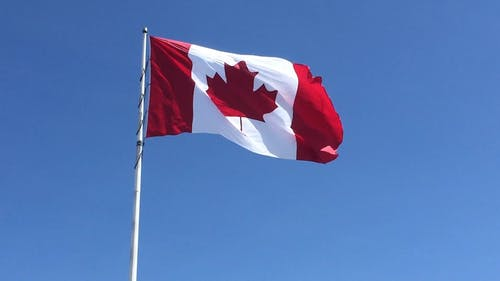Canada flag: (148, 35, 348, 166)
